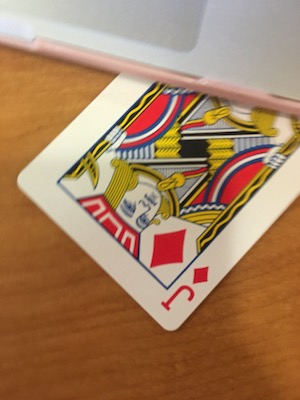JackOfDiamonds: (14, 59, 296, 335)
